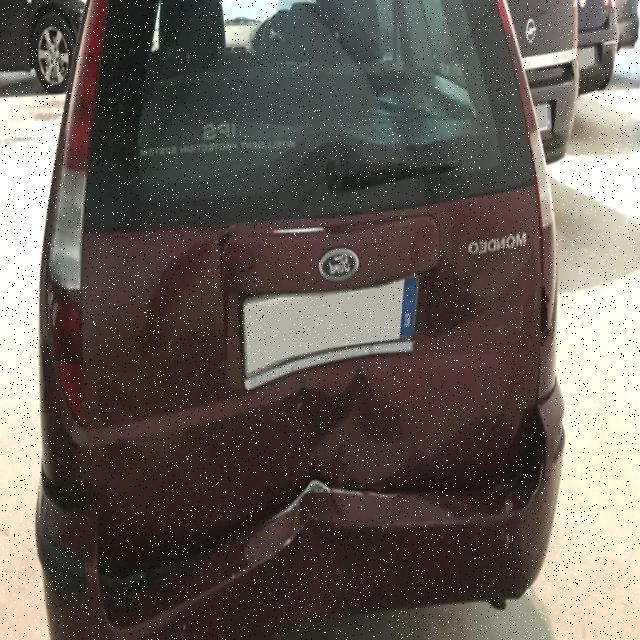damage: (141, 357, 470, 639)
